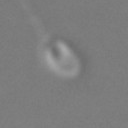abnormal: (14, 1, 51, 45)
